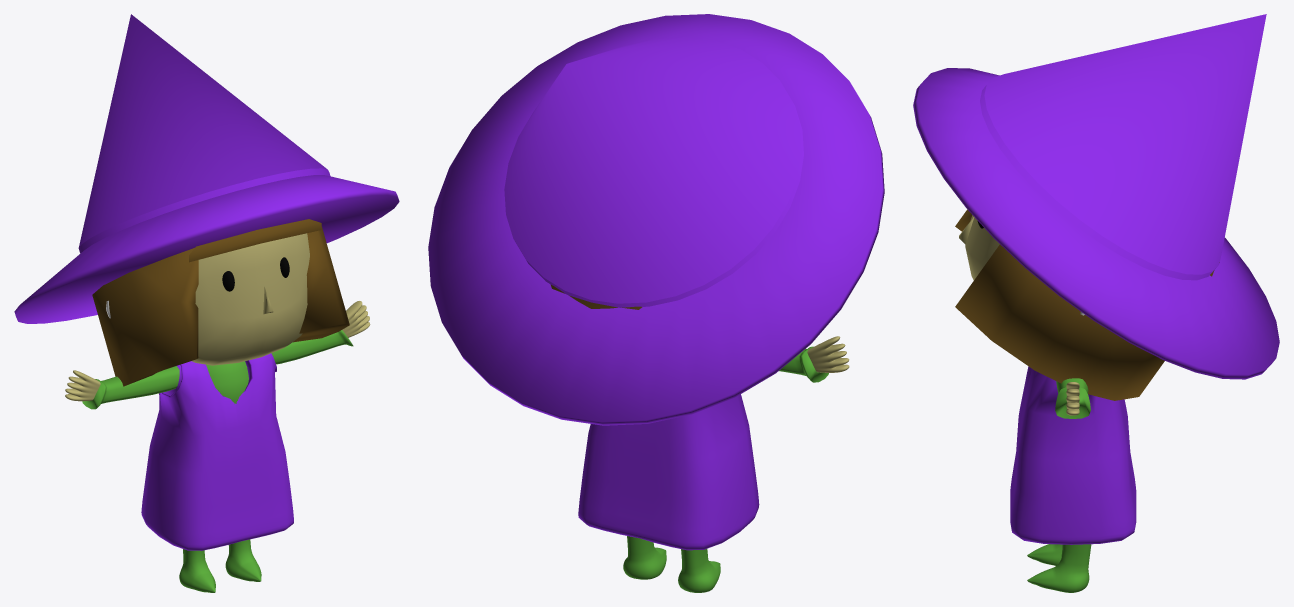
Rendered from witchfinal.fbx.
3 views of the same model, side by side, from view 1: azimuth 30°, elevation 25°; view 2: azimuth 150°, elevation 25°; view 3: azimuth 270°, elevation 25° (orthographic). The views are drawn at different scales.
Visible parts, largest first — view 1: Cone, dress, hair, Head, chest, leg, Cube; view 2: Cone, dress, leg, Cube, chest; view 3: Cone, dress, hair, leg, Head, chest.
Boxes of the visible parts, left/top/right/bottom form: Cone: left=14, top=14, right=399, bottom=323; dress: left=141, top=353, right=293, bottom=550; hair: left=92, top=219, right=349, bottom=386; Head: left=191, top=233, right=309, bottom=365; chest: left=82, top=330, right=353, bottom=409; leg: left=179, top=539, right=261, bottom=592; Cube: left=65, top=301, right=370, bottom=401; Cone: left=428, top=14, right=884, bottom=425; dress: left=578, top=394, right=759, bottom=550; leg: left=623, top=536, right=720, bottom=592; Cube: left=807, top=336, right=849, bottom=372; chest: left=779, top=346, right=828, bottom=382; Cone: left=913, top=14, right=1279, bottom=379; dress: left=1010, top=366, right=1136, bottom=544; hair: left=955, top=209, right=1219, bottom=400; leg: left=1027, top=544, right=1091, bottom=592; Head: left=965, top=215, right=999, bottom=280; chest: left=1055, top=378, right=1090, bottom=418.
Bounding box in the file's own units: 173 × 237 × 141.
